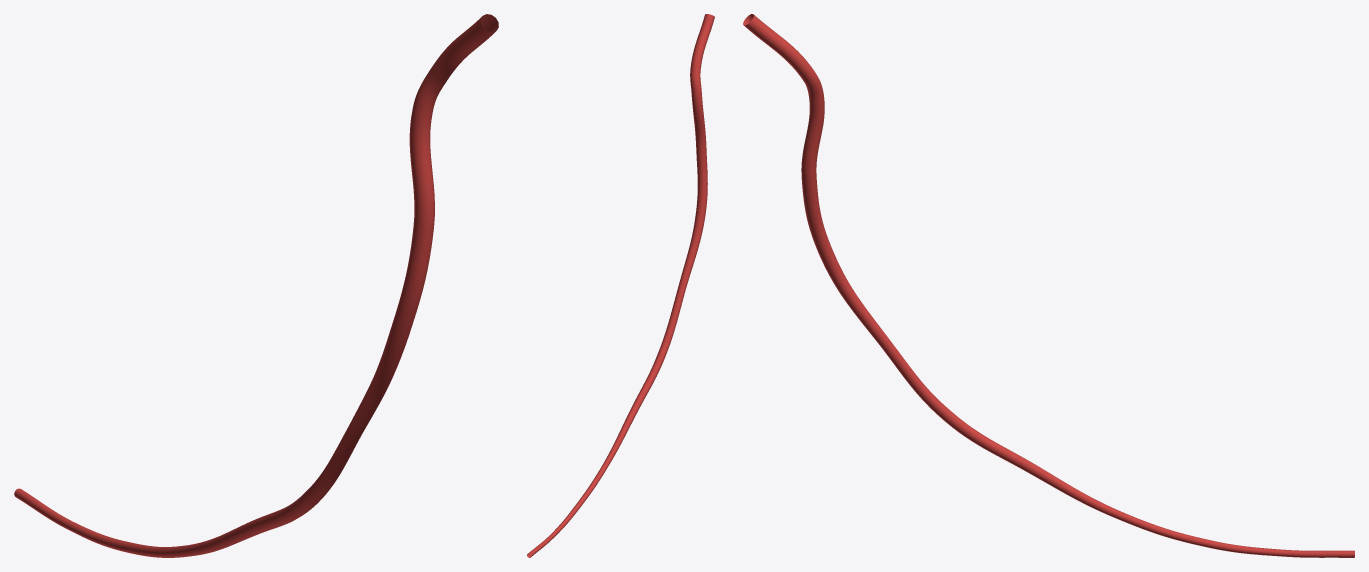
3 views of the same model, side by side, from view 1: azimuth 30°, elevation 25°; view 2: azimuth 150°, elevation 25°; view 3: azimuth 270°, elevation 25° (orthographic). The views are drawn at different scales.
Parts seen in each view (by area): view 1: 左侧阴茎深动脉; view 2: 左侧阴茎深动脉; view 3: 左侧阴茎深动脉.
Part boxes in pixels (box(x1,y1,x2,y2)): 左侧阴茎深动脉: box(14, 14, 498, 557); 左侧阴茎深动脉: box(527, 14, 714, 557); 左侧阴茎深动脉: box(743, 14, 1354, 557).
Bounding box in the file's own units: 0.0074 × 0.0802 × 0.0792.
